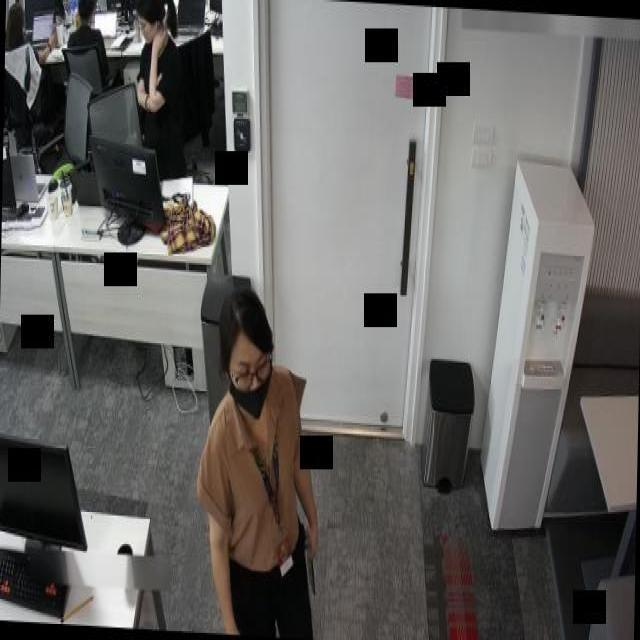hairnet: (232, 341, 273, 418)
